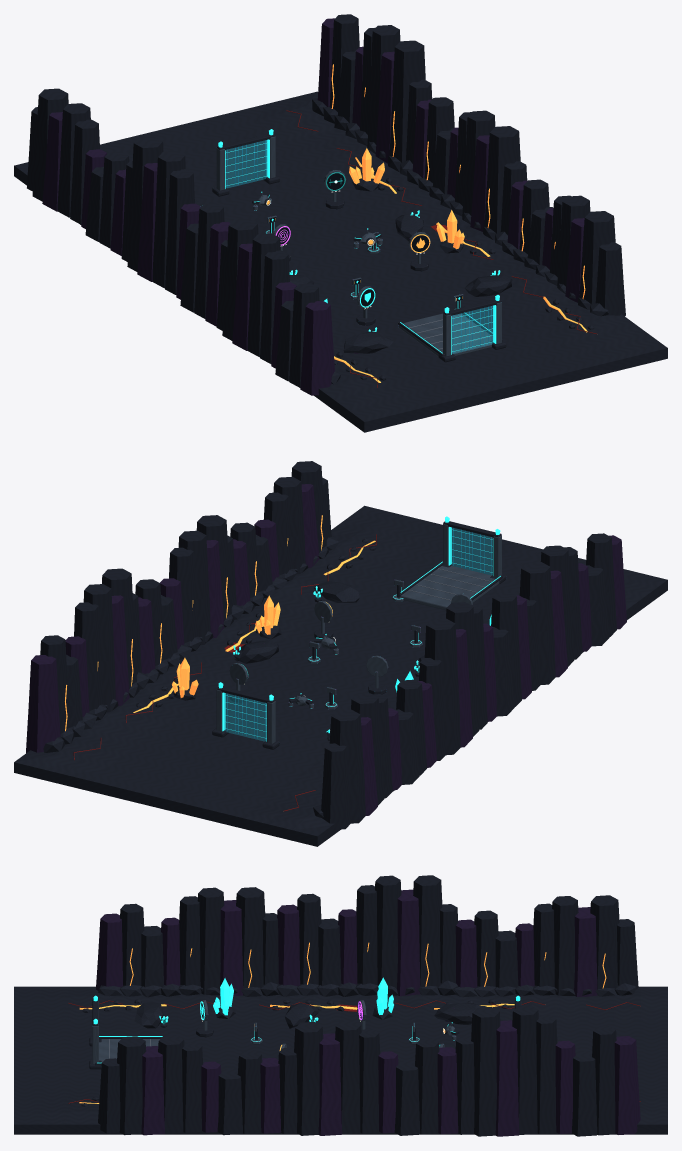
File: 02_Training_Layout.fbx
3 views of the same model, one above another, from view 1: azimuth 30°, elevation 25°; view 2: azimuth 150°, elevation 25°; view 3: azimuth 270°, elevation 25° (orthographic). The views are drawn at different scales.
Visible parts, largest first — view 1: VolcanicGround_24m_Placed.001, VolcanicGround_24m_Placed.002, CanyonWall_12m_Placed.001, CanyonWall_12m_Placed.002, CanyonWall_12m_Placed.007, CanyonWall_12m_Placed.006, CanyonWall_12m_Placed.005, CanyonWall_12m_Placed.003, EnergyBarrier_Placed.001, EnergyBarrier_Placed, RouteBridge_Placed, BasaltRock_B_Placed.003 (+3 smaller); view 2: VolcanicGround_24m_Placed.002, VolcanicGround_24m_Placed.001, CanyonWall_12m_Placed.007, CanyonWall_12m_Placed.002, CanyonWall_12m_Placed.003, CanyonWall_12m_Placed.001, CanyonWall_12m_Placed.006, CanyonWall_12m_Placed.005, EnergyBarrier_Placed.001, EnergyBarrier_Placed, RouteBridge_Placed, BasaltRock_B_Placed.006 (+4 smaller); view 3: VolcanicGround_24m_Placed.001, CanyonWall_12m_Placed.007, CanyonWall_12m_Placed.002, CanyonWall_12m_Placed.006, CanyonWall_12m_Placed.001, CanyonWall_12m_Placed.003, CanyonWall_12m_Placed.005, VolcanicGround_24m_Placed.002, BasaltRock_B_Placed.007, RouteBridge_Placed, BasaltRock_B_Placed.003, CrystalCluster_Cyan_Placed.001 (+3 smaller).
Part boxes in pixels (x1,y1,x2,y2): VolcanicGround_24m_Placed.001: [289, 225, 667, 432]; VolcanicGround_24m_Placed.002: [14, 91, 470, 269]; CanyonWall_12m_Placed.001: [216, 218, 340, 395]; CanyonWall_12m_Placed.002: [121, 136, 230, 326]; CanyonWall_12m_Placed.007: [312, 14, 432, 176]; CanyonWall_12m_Placed.006: [407, 97, 527, 245]; CanyonWall_12m_Placed.005: [502, 179, 625, 316]; CanyonWall_12m_Placed.003: [27, 88, 129, 256]; EnergyBarrier_Placed.001: [212, 129, 279, 196]; EnergyBarrier_Placed: [438, 295, 506, 362]; RouteBridge_Placed: [398, 308, 502, 356]; BasaltRock_B_Placed.003: [343, 331, 393, 353]; VolcanicGround_24m_Placed.002: [14, 639, 396, 846]; VolcanicGround_24m_Placed.001: [211, 505, 667, 684]; CanyonWall_12m_Placed.007: [26, 568, 149, 752]; CanyonWall_12m_Placed.002: [419, 592, 531, 760]; CanyonWall_12m_Placed.003: [313, 679, 436, 829]; CanyonWall_12m_Placed.001: [519, 533, 626, 690]; CanyonWall_12m_Placed.006: [135, 515, 244, 683]; CanyonWall_12m_Placed.005: [230, 461, 339, 613]; EnergyBarrier_Placed.001: [212, 682, 279, 749]; EnergyBarrier_Placed: [442, 516, 506, 583]; RouteBridge_Placed: [399, 561, 502, 610]; BasaltRock_B_Placed.006: [233, 640, 278, 663]; VolcanicGround_24m_Placed.001: [14, 986, 340, 1134]; CanyonWall_12m_Placed.007: [455, 1005, 640, 1136]; CanyonWall_12m_Placed.002: [276, 875, 458, 996]; CanyonWall_12m_Placed.006: [278, 1020, 458, 1135]; CanyonWall_12m_Placed.001: [96, 887, 278, 997]; CanyonWall_12m_Placed.003: [454, 895, 638, 997]; CanyonWall_12m_Placed.005: [98, 1035, 281, 1135]; VolcanicGround_24m_Placed.002: [341, 986, 667, 1134]; BasaltRock_B_Placed.007: [434, 1003, 484, 1024]; RouteBridge_Placed: [95, 1036, 162, 1065]; BasaltRock_B_Placed.003: [134, 1002, 163, 1028]; CrystalCluster_Cyan_Placed.001: [213, 978, 235, 1018].
Bounding box in the file's own units: 2587 × 4800 × 978.
Materials: 2 (1 with a texture image).
